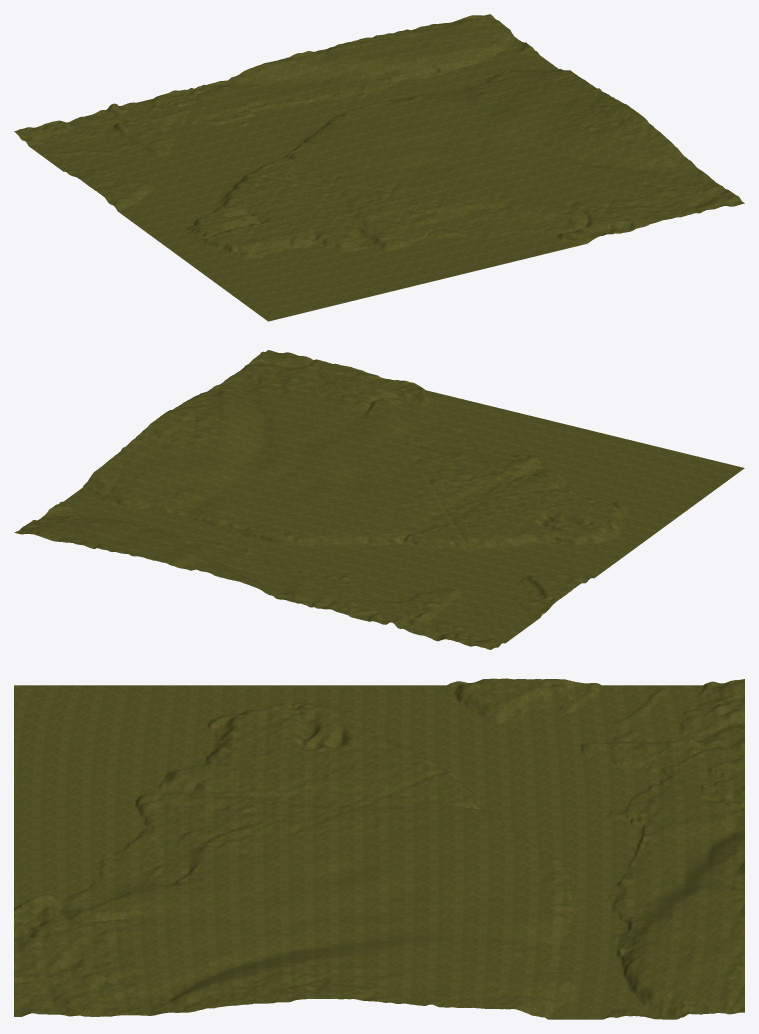
Rendered from tiled_map2.glb.
3 views of the same model, one above another, from view 1: azimuth 30°, elevation 25°; view 2: azimuth 150°, elevation 25°; view 3: azimuth 270°, elevation 25° (orthographic). The views are drawn at different scales.
Parts seen in each view (by area): view 1: EXPORT_GOOGLE_SAT_WM.003; view 2: EXPORT_GOOGLE_SAT_WM.003; view 3: EXPORT_GOOGLE_SAT_WM.003.
Boxes of the visible parts, left/top/right/bottom form: EXPORT_GOOGLE_SAT_WM.003: left=14, top=14, right=744, bottom=321; EXPORT_GOOGLE_SAT_WM.003: left=14, top=350, right=744, bottom=649; EXPORT_GOOGLE_SAT_WM.003: left=14, top=678, right=744, bottom=1019.
Size of the model in its own units: 106 by 3.14 by 97.65.
1 material, 1 textured.
